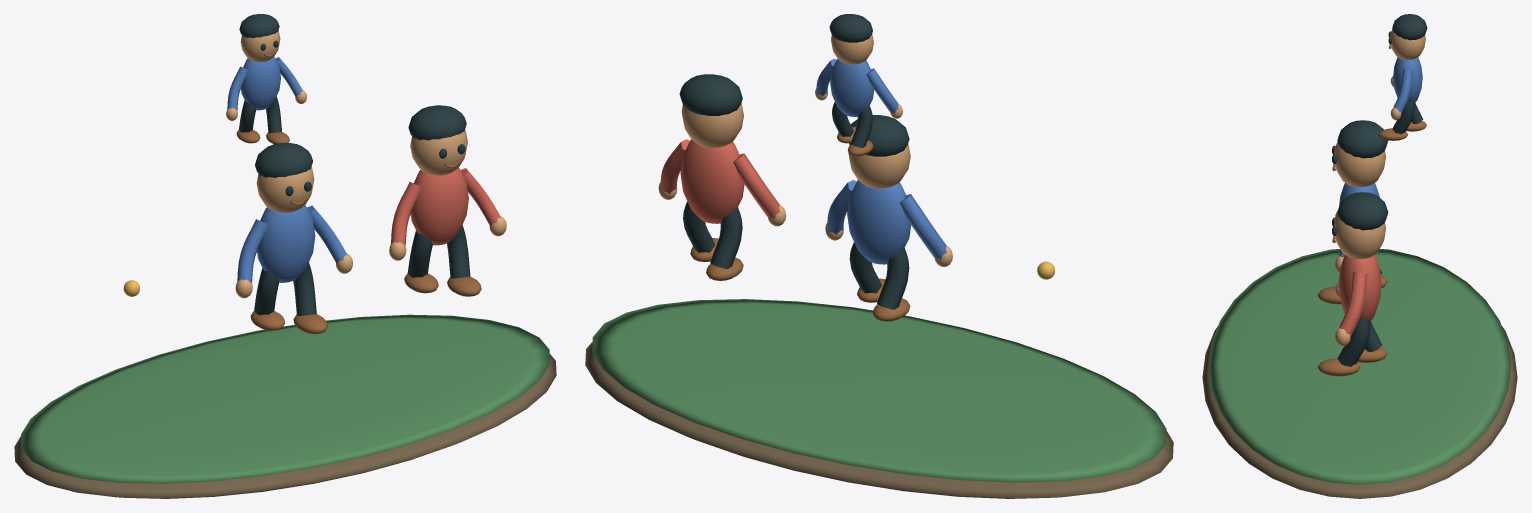
The model's file is complete-third-small-companion-child.glb.
3 views of the same model, side by side, from view 1: azimuth 30°, elevation 25°; view 2: azimuth 150°, elevation 25°; view 3: azimuth 270°, elevation 25° (orthographic). The views are drawn at different scales.
Parts seen in each view (by area): view 1: complete-third-small-companion-child_surface_01, complete-third-small-companion-child_surface_00, complete-third-small-companion-child_surface_04, complete-third-small-companion-child_surface_06, complete-third-small-companion-child_surface_03, complete-third-small-companion-child_surface_07, complete-third-small-companion-child_surface_05; view 2: complete-third-small-companion-child_surface_01, complete-third-small-companion-child_surface_00, complete-third-small-companion-child_surface_04, complete-third-small-companion-child_surface_06, complete-third-small-companion-child_surface_07, complete-third-small-companion-child_surface_03, complete-third-small-companion-child_surface_05; view 3: complete-third-small-companion-child_surface_01, complete-third-small-companion-child_surface_00, complete-third-small-companion-child_surface_04, complete-third-small-companion-child_surface_03, complete-third-small-companion-child_surface_07, complete-third-small-companion-child_surface_05, complete-third-small-companion-child_surface_06.
Boxes of the visible parts, bbox=[...] form: complete-third-small-companion-child_surface_01: bbox=[21, 314, 549, 483]; complete-third-small-companion-child_surface_00: bbox=[14, 354, 556, 498]; complete-third-small-companion-child_surface_04: bbox=[239, 14, 470, 315]; complete-third-small-companion-child_surface_06: bbox=[227, 57, 347, 282]; complete-third-small-companion-child_surface_03: bbox=[226, 30, 506, 298]; complete-third-small-companion-child_surface_07: bbox=[390, 168, 500, 245]; complete-third-small-companion-child_surface_05: bbox=[236, 52, 481, 334]; complete-third-small-companion-child_surface_01: bbox=[592, 299, 1166, 482]; complete-third-small-companion-child_surface_00: bbox=[585, 342, 1173, 498]; complete-third-small-companion-child_surface_04: bbox=[679, 14, 909, 309]; complete-third-small-companion-child_surface_06: bbox=[816, 58, 946, 264]; complete-third-small-companion-child_surface_07: bbox=[660, 139, 780, 223]; complete-third-small-companion-child_surface_03: bbox=[658, 34, 952, 266]; complete-third-small-companion-child_surface_05: bbox=[690, 126, 910, 321]; complete-third-small-companion-child_surface_01: bbox=[1208, 249, 1511, 484]; complete-third-small-companion-child_surface_00: bbox=[1202, 326, 1517, 498]; complete-third-small-companion-child_surface_04: bbox=[1332, 14, 1427, 366]; complete-third-small-companion-child_surface_03: bbox=[1334, 29, 1425, 346]; complete-third-small-companion-child_surface_07: bbox=[1338, 255, 1381, 337]; complete-third-small-companion-child_surface_05: bbox=[1317, 44, 1426, 376]; complete-third-small-companion-child_surface_06: bbox=[1338, 57, 1422, 257].
Size of the model in its own units: 4.56 by 3.29 by 2.5.
